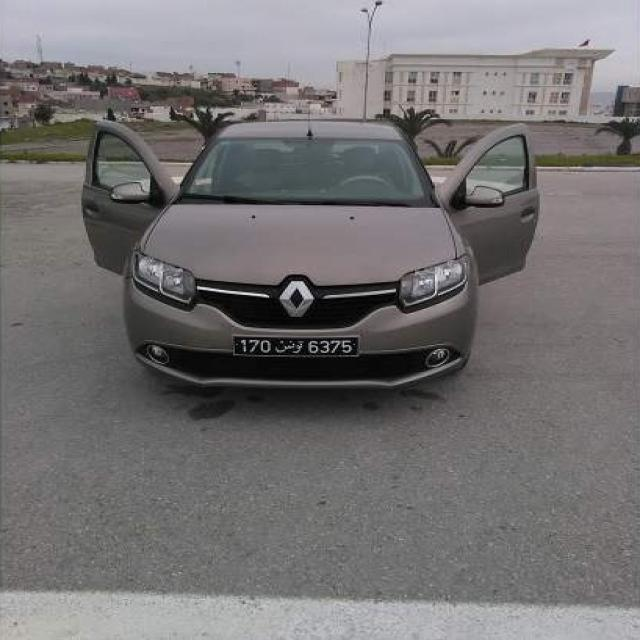licence plate: (231, 336, 361, 356)
